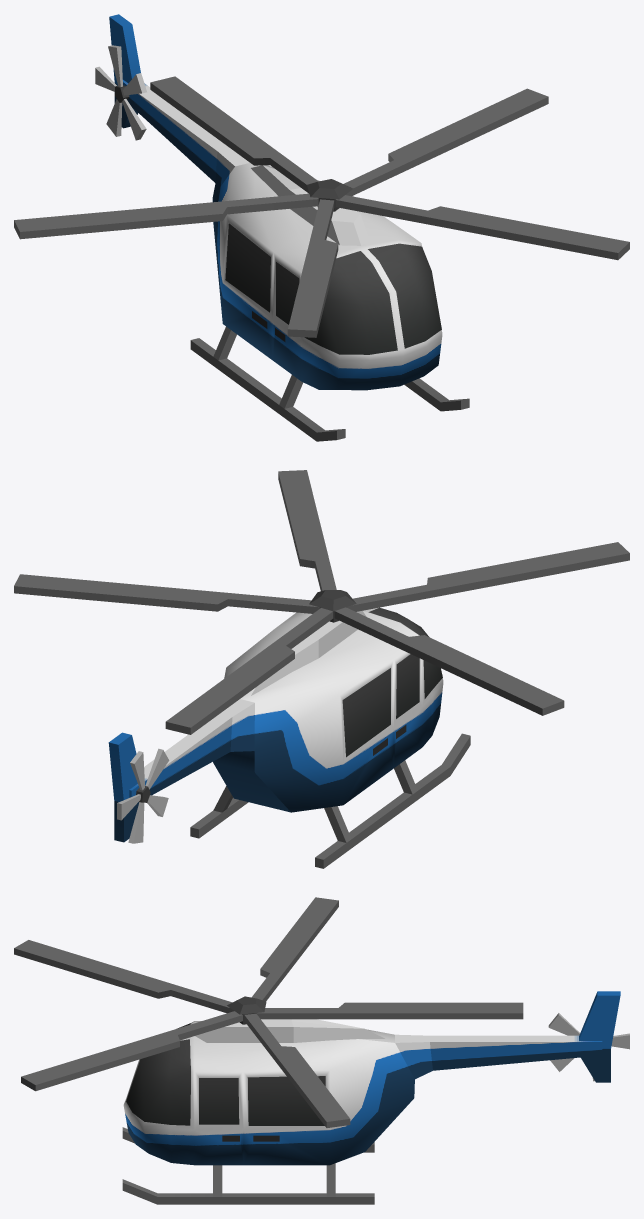
File: HelicopterA.fbx
3 renders of one model, top to bottom at view 1: azimuth 30°, elevation 25°; view 2: azimuth 150°, elevation 25°; view 3: azimuth 270°, elevation 25°, orthographic. The views are drawn at different scales.
Parts seen in each view (by area): view 1: HelicopterA, HelicopterAPropeller, HelicopterAPropellerBack; view 2: HelicopterA, HelicopterAPropeller, HelicopterAPropellerBack; view 3: HelicopterA, HelicopterAPropeller, HelicopterAPropellerBack.
Boxes of the visible parts, x1,y1,x2,y2 form: HelicopterA: (109,14,469,441); HelicopterAPropeller: (14,76,629,337); HelicopterAPropellerBack: (95,45,146,140); HelicopterA: (108,607,470,868); HelicopterAPropeller: (14,470,629,734); HelicopterAPropellerBack: (117,748,169,843); HelicopterA: (122,991,620,1204); HelicopterAPropeller: (14,897,523,1127); HelicopterAPropellerBack: (548,1013,629,1081).
Bounding box in the file's own units: 582 × 222 × 675.
